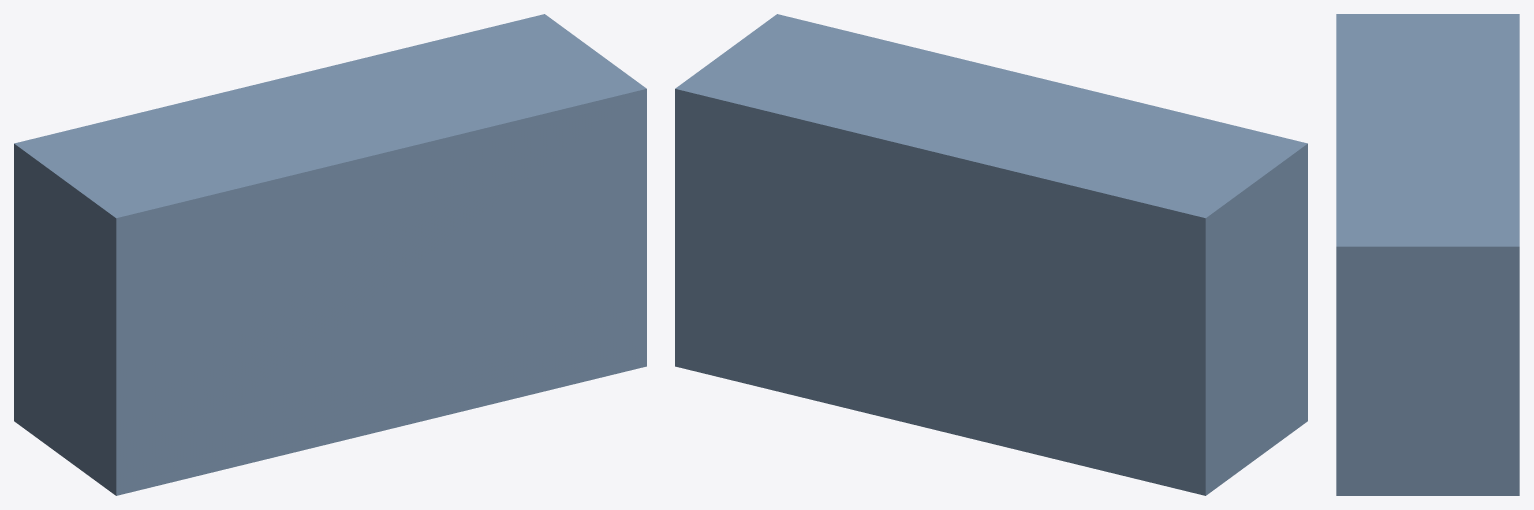
File: cur.glb
The picture shows the model from 3 angles, left to right: view 1: azimuth 30°, elevation 25°; view 2: azimuth 150°, elevation 25°; view 3: azimuth 270°, elevation 25°; orthographic projection. The views are drawn at different scales.
Parts seen in each view (by area): view 1: case:shell; view 2: case:shell; view 3: case:shell.
Part boxes in pixels (left/top/right/bottom): case:shell: left=14, top=14, right=646, bottom=495; case:shell: left=675, top=14, right=1307, bottom=495; case:shell: left=1336, top=14, right=1519, bottom=495.
Size of the model in its own units: 120 by 60 by 40.
